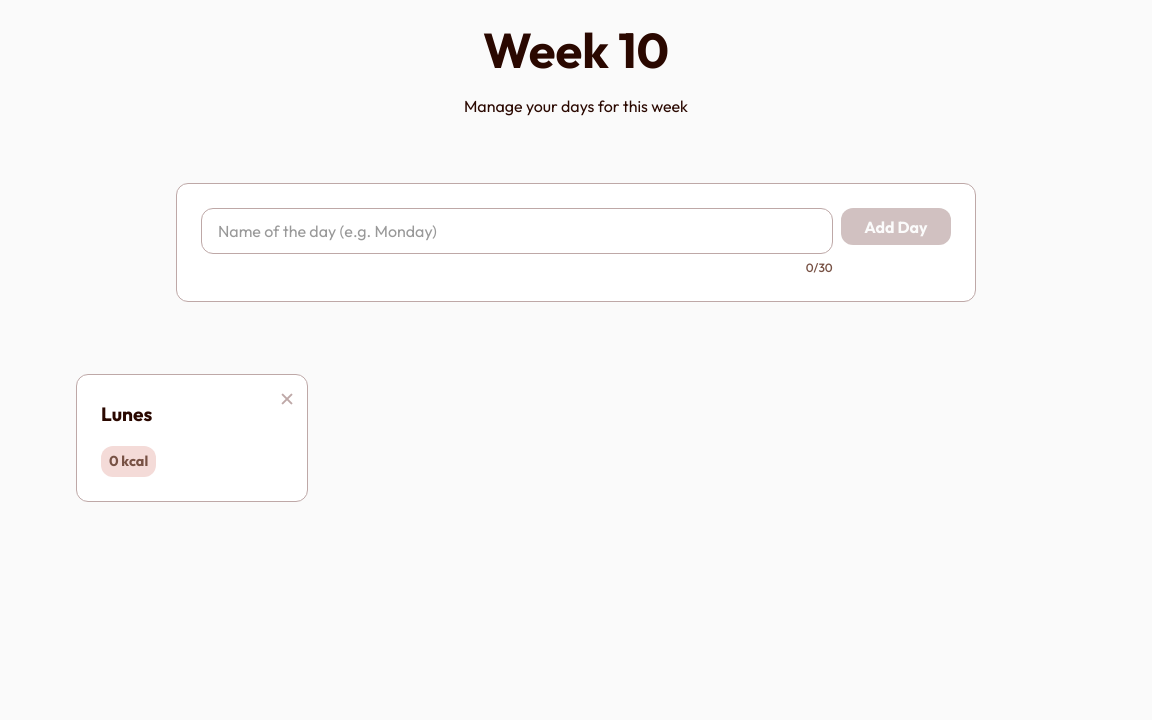
Test: WeekItem - Days Management (Integration) › debe cerrar el modal sin borrar si el usuario cancela
Step 1. Click the button titled "Delete day" → (287, 400), box [275,384,299,416]
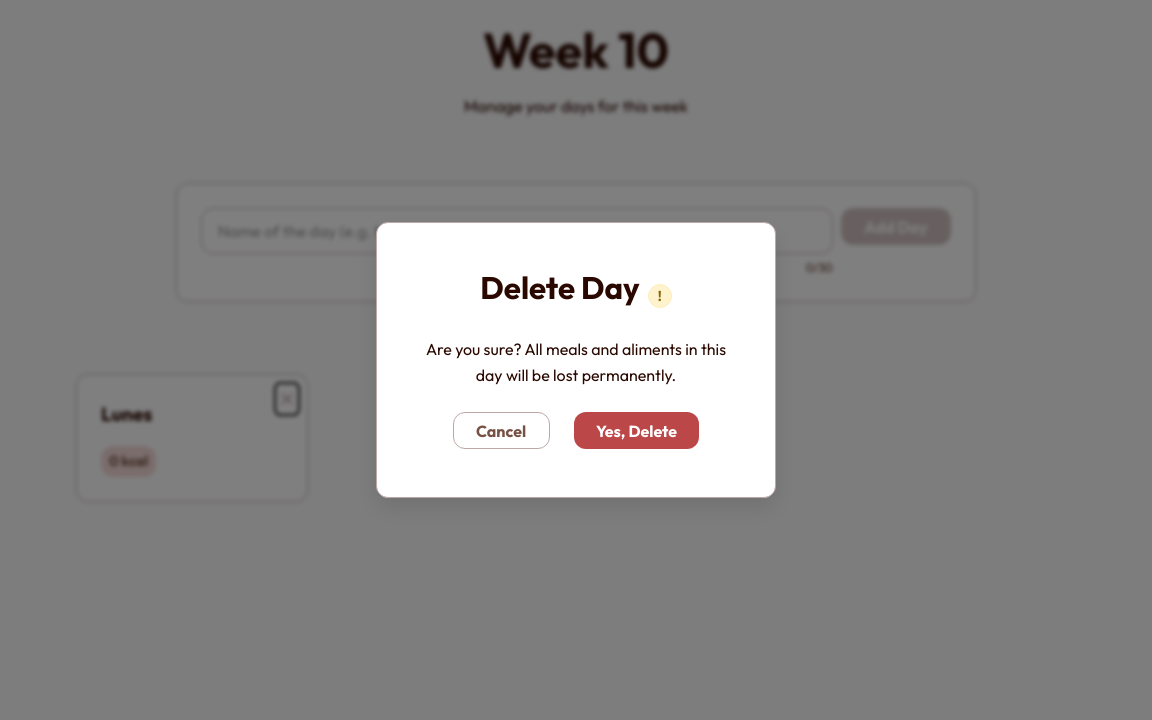
Botón cancelar estándar
Step 2. Click the button "Cancel" → (501, 431), box [453,412,550,449]
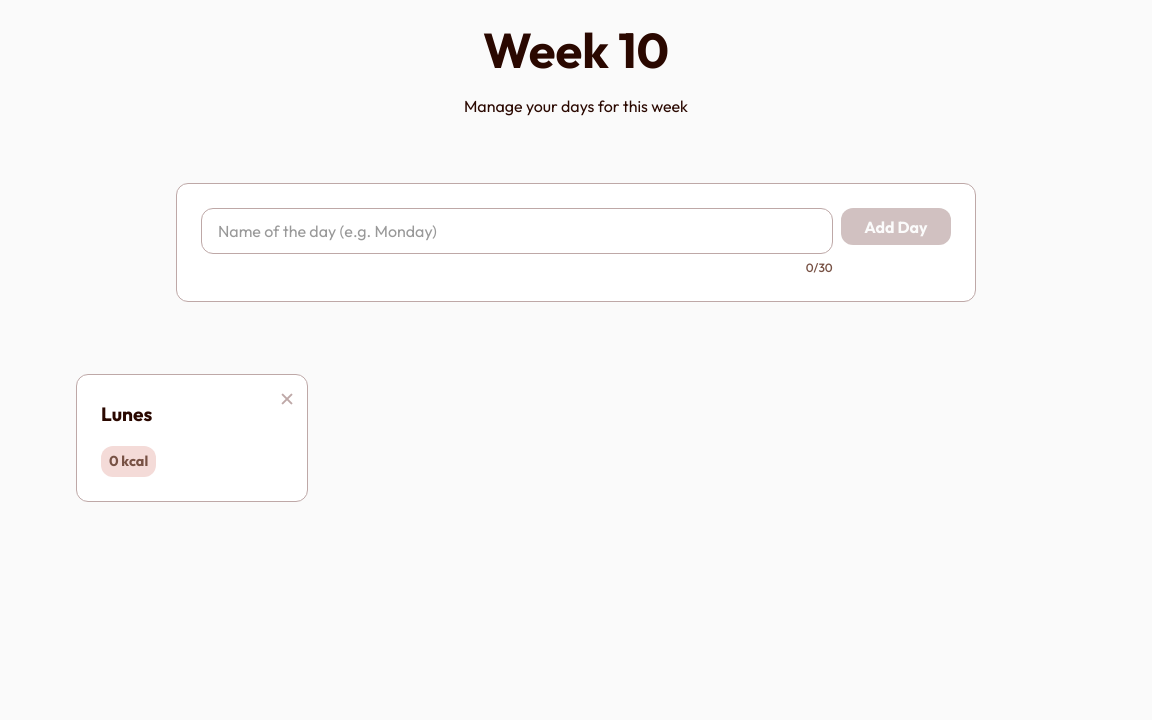
Expected: the text "Lunes" is shown, [101,402,152,426]
Expected: the heading "Delete Day" is gone
